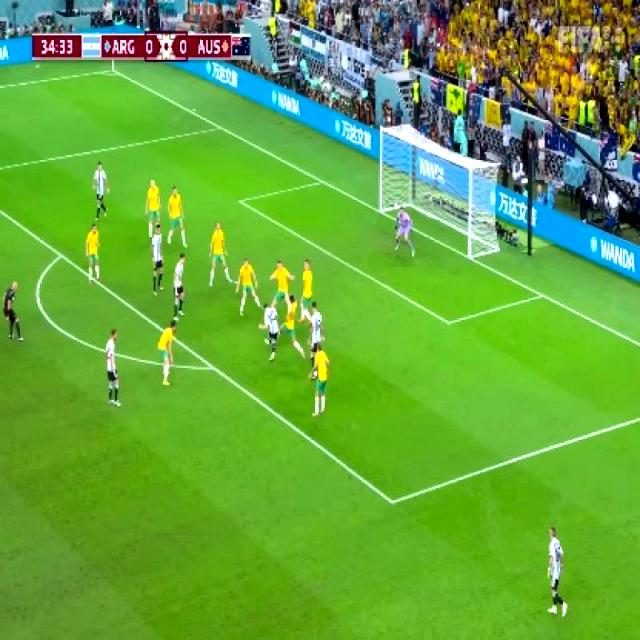bigarea_bottom_inner: (379, 484, 404, 518)
bigarea_top_outter: (211, 115, 229, 137)
bottom_arc_area_intersection: (202, 351, 223, 382)
corner: (102, 64, 122, 78)
smallarea_bottom_inner: (437, 304, 460, 338)
smallarea_bottom_outter: (531, 282, 551, 306)
smallarea_top_inner: (229, 188, 251, 214)
smallarea_top_outter: (312, 170, 331, 192)
top_arc_area_intersection: (49, 242, 69, 268)
